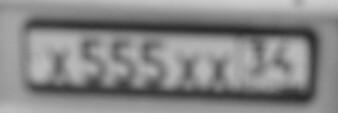license-plateSW: (27, 24, 311, 94)
